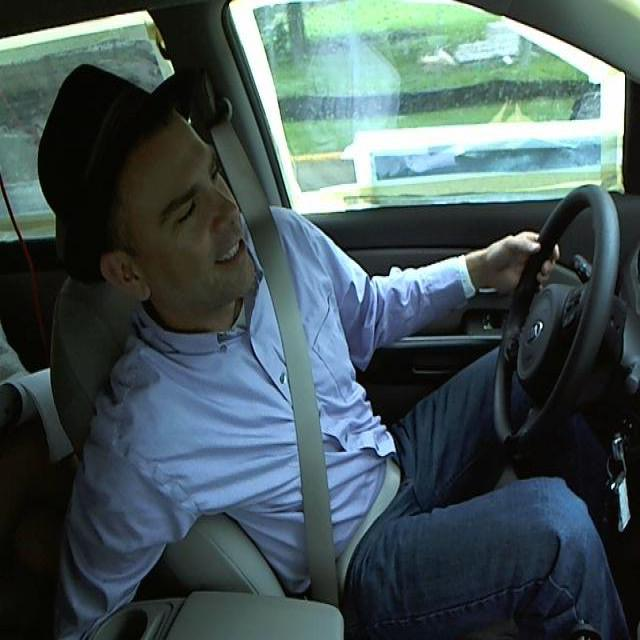seatbelt: (254, 276, 392, 595)
